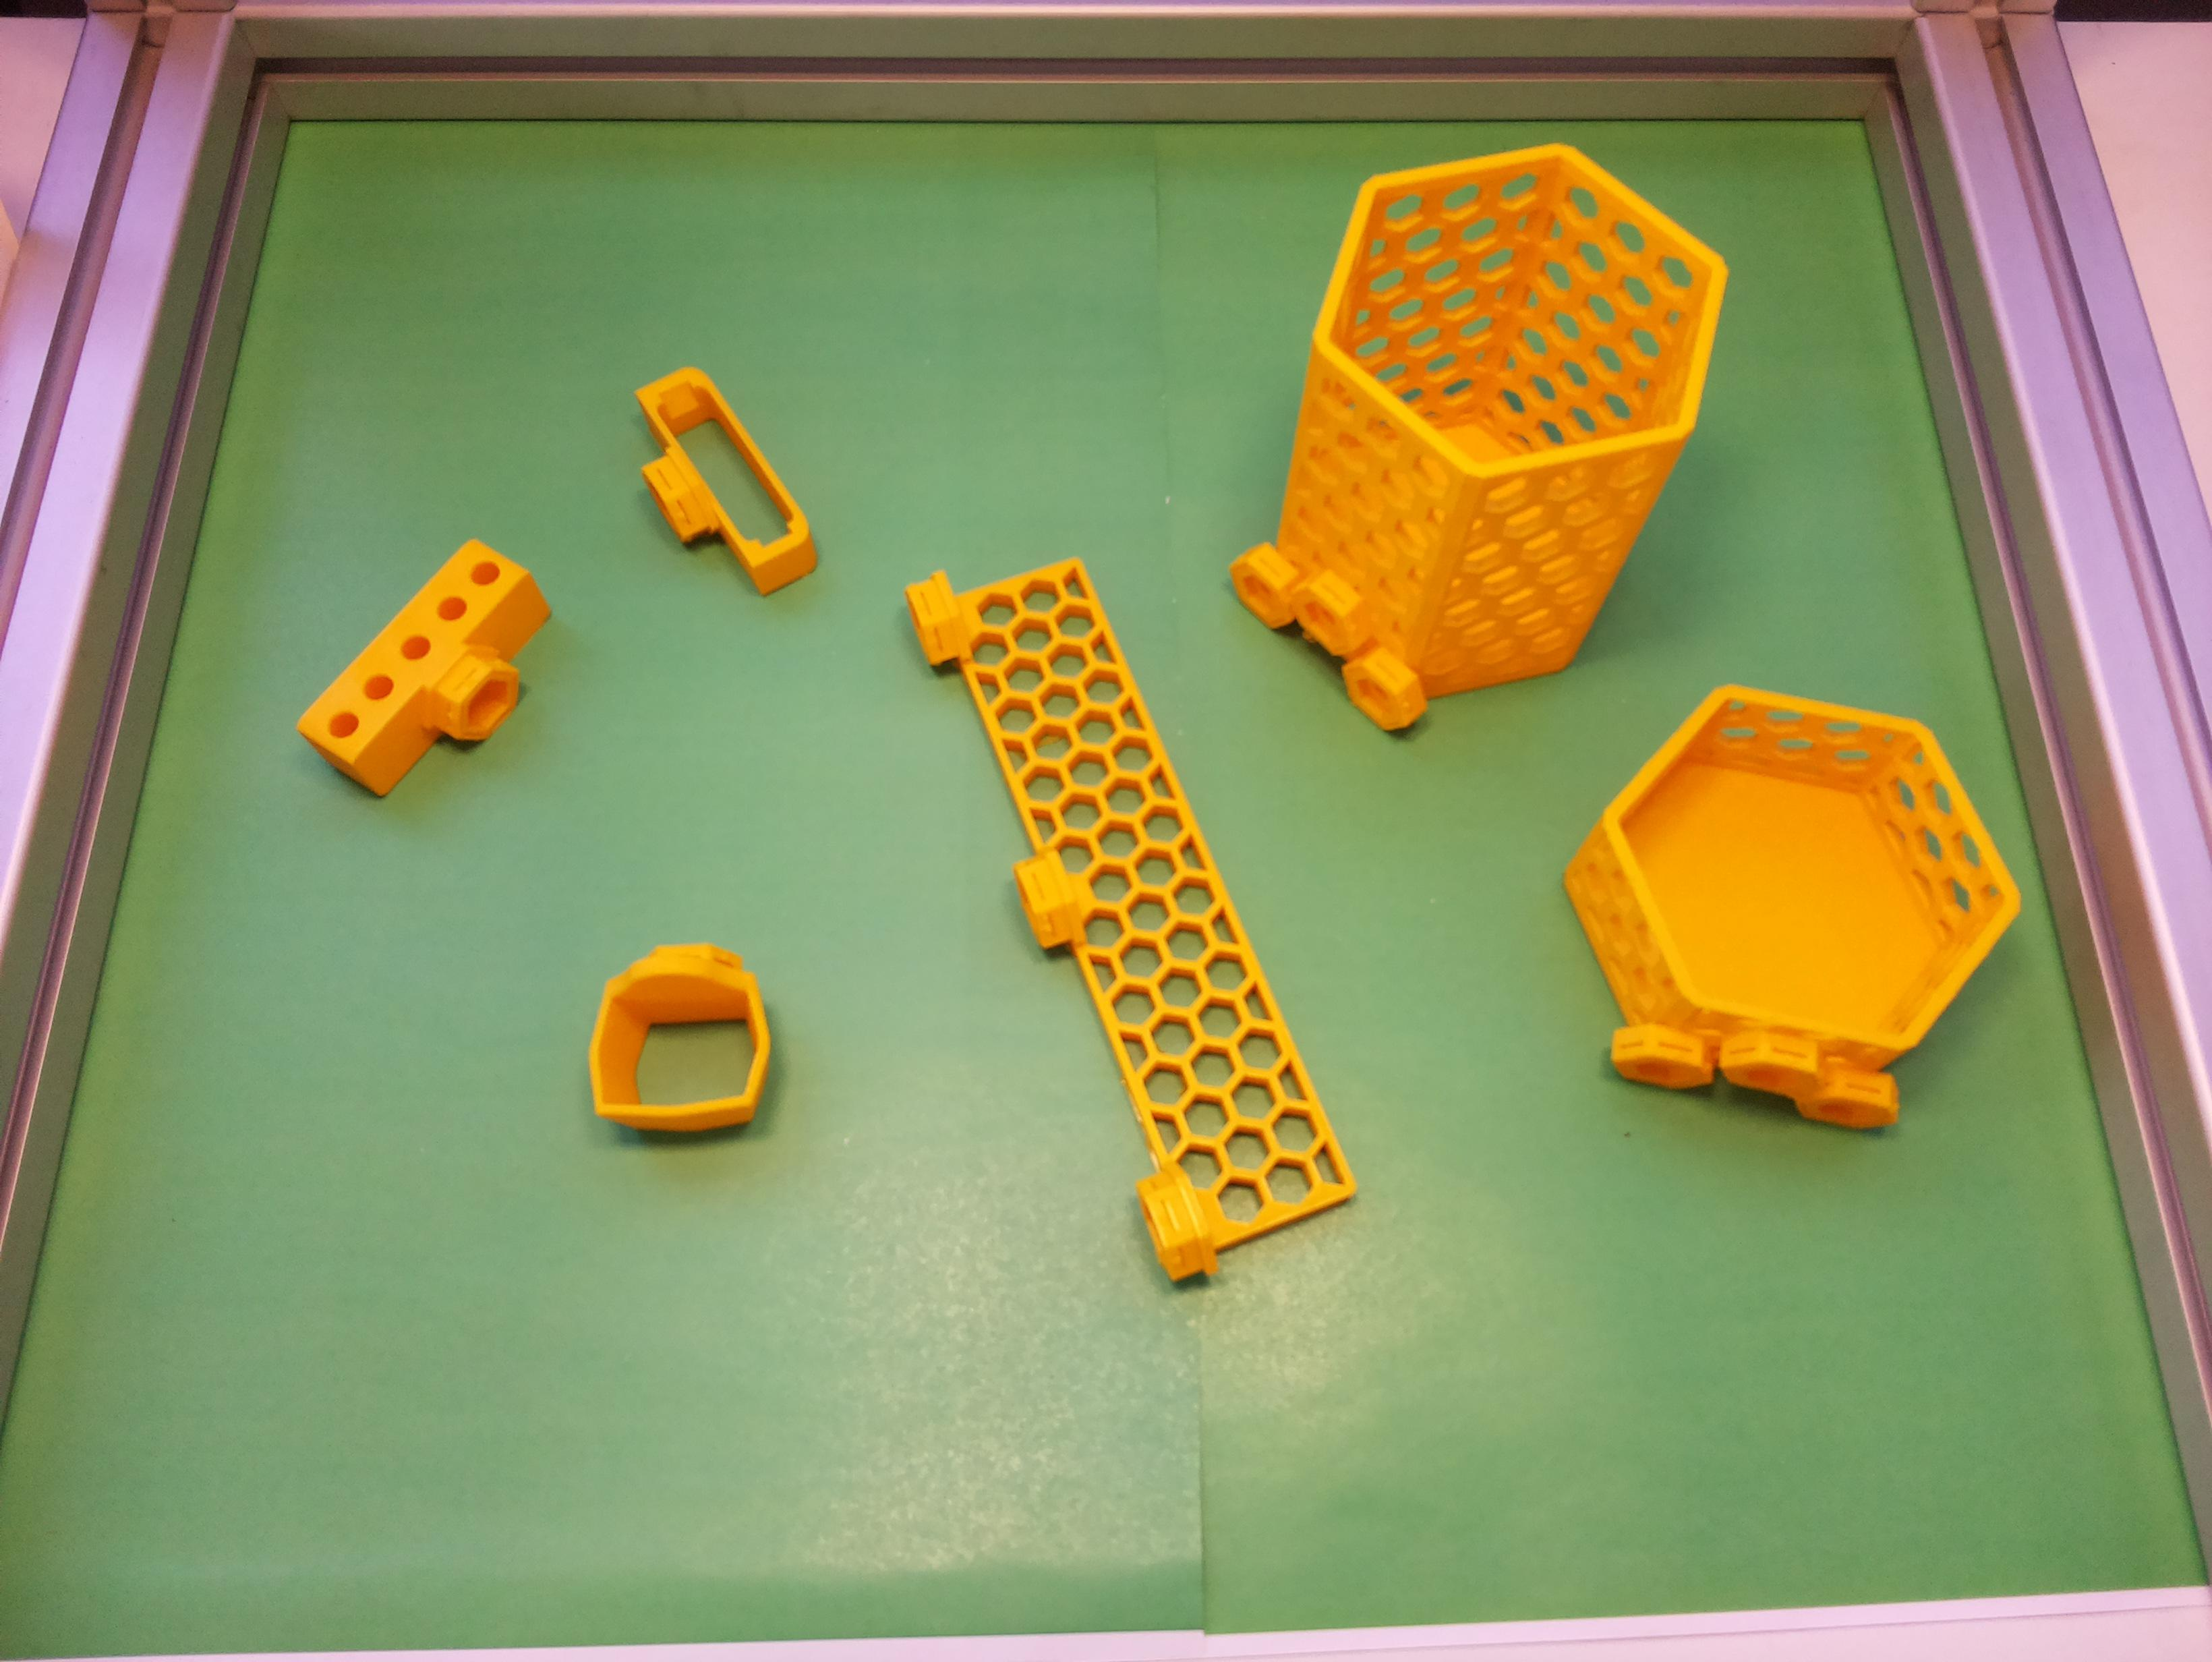bit_holder: (292, 527, 588, 829)
bottle_holder: (1528, 660, 2051, 1150)
cup_holder: (1144, 70, 1783, 791)
cutter_holder: (599, 353, 833, 622)
scissor_holder: (588, 943, 773, 1133)
tool_holder: (869, 517, 1365, 1290)
